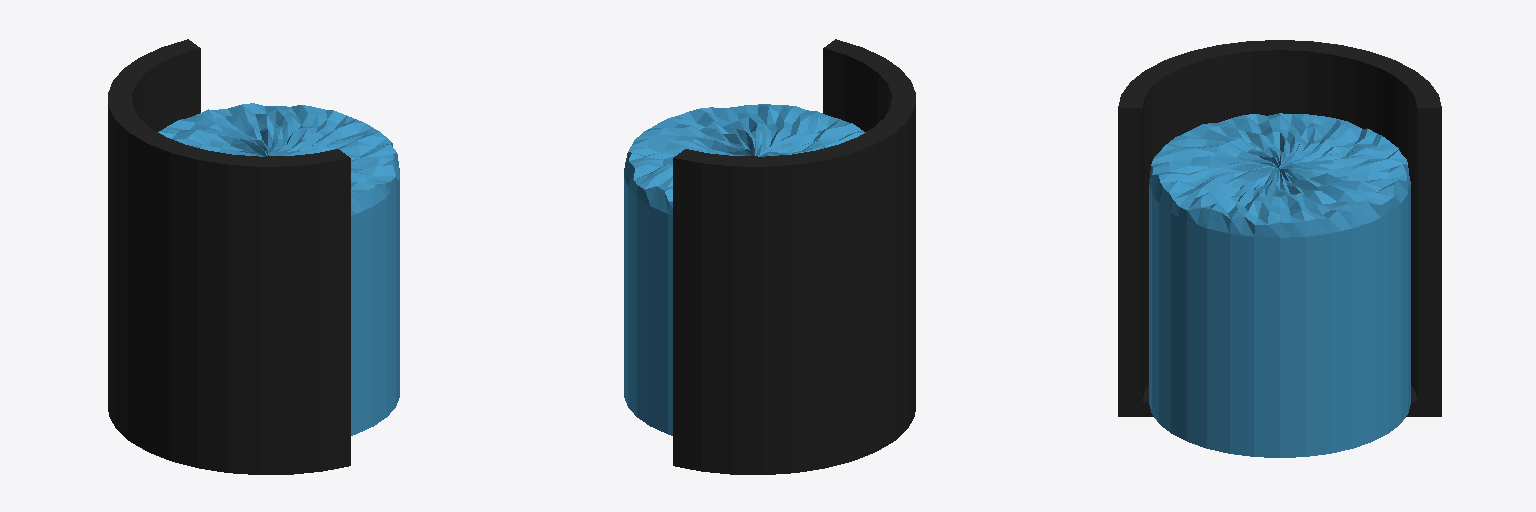
3 renders of one model, left to right at view 1: azimuth 30°, elevation 25°; view 2: azimuth 150°, elevation 25°; view 3: azimuth 270°, elevation 25°, orthographic.
Visible parts, largest first — view 1: Tank_Circle, Water_Circle.001; view 2: Tank_Circle, Water_Circle.001; view 3: Water_Circle.001, Tank_Circle.
Part boxes in pixels (x1,y1,x2,y2): Tank_Circle: (108,39,350,474); Water_Circle.001: (158,103,399,435); Tank_Circle: (673,39,915,474); Water_Circle.001: (624,104,865,435); Water_Circle.001: (1149,113,1410,457); Tank_Circle: (1118,40,1441,416).
Size of the model in its own units: 1.45 by 1.68 by 1.6.